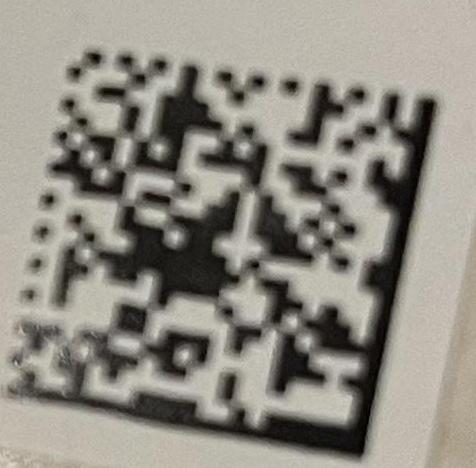datamatrix: (7, 49, 439, 463)
